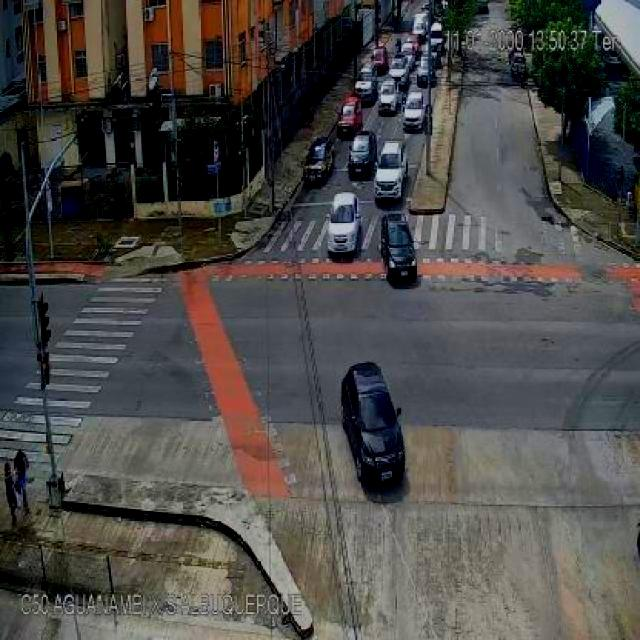Car: (328, 359, 418, 495), (379, 215, 424, 286), (329, 193, 361, 261), (374, 139, 407, 200), (300, 136, 334, 187), (388, 61, 408, 86), (417, 68, 435, 85), (432, 24, 443, 48), (402, 39, 421, 50)
Van: (346, 131, 376, 178), (338, 98, 362, 134), (356, 65, 380, 101), (403, 93, 424, 132), (379, 80, 400, 114), (371, 46, 388, 73), (414, 16, 426, 42)
